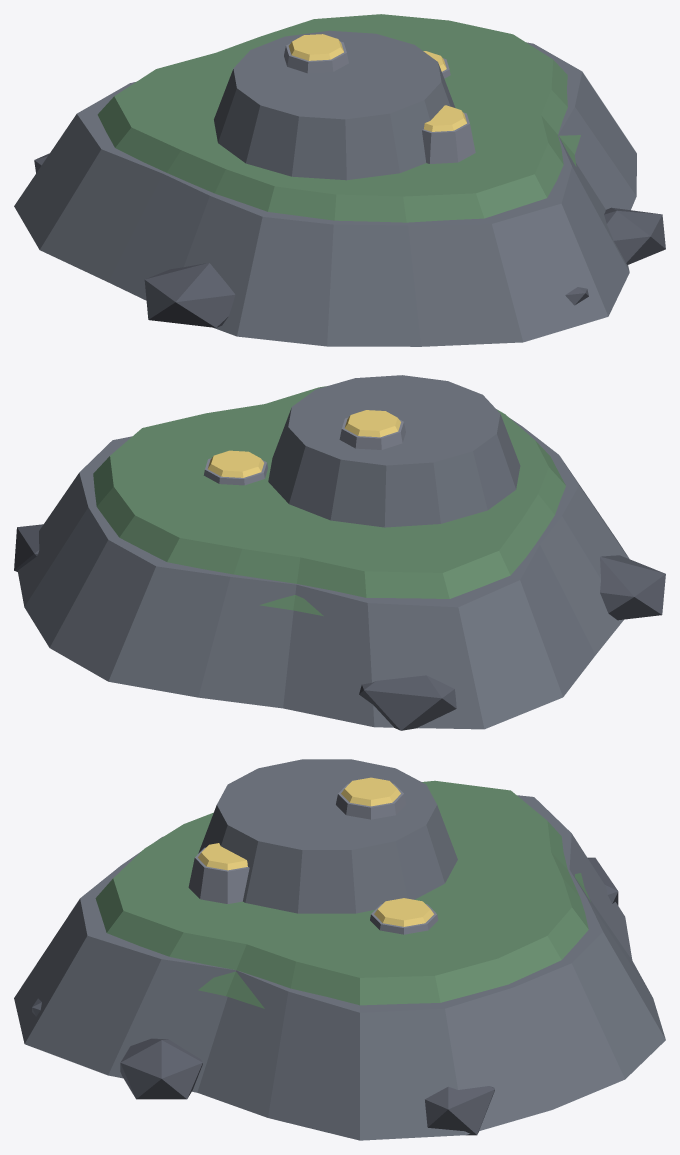
The model's file is echocraft_island.glb.
The picture shows the model from 3 angles, top to bottom: view 1: azimuth 30°, elevation 25°; view 2: azimuth 150°, elevation 25°; view 3: azimuth 270°, elevation 25°; orthographic projection. The views are drawn at different scales.
Parts seen in each view (by area): view 1: Island_Cliff_Base, Island_Grass_Plateau, Island_Lighthouse_Hill, Shore_Boulder_1, Shore_Boulder_4, Shrine_Plinth_Hope, Shrine_Plinth_Warmth_Ring, Shrine_Plinth_Warmth, Shrine_Plinth_Hope_Ring; view 2: Island_Cliff_Base, Island_Grass_Plateau, Island_Lighthouse_Hill, Shore_Boulder_3, Shore_Boulder_1, Shrine_Plinth_Life_Ring, Shrine_Plinth_Warmth_Ring, Shrine_Plinth_Warmth, Shore_Boulder_0, Shrine_Plinth_Life; view 3: Island_Cliff_Base, Island_Grass_Plateau, Island_Lighthouse_Hill, Shore_Boulder_4, Shore_Boulder_0, Shrine_Plinth_Hope, Shrine_Plinth_Warmth_Ring, Shrine_Plinth_Life_Ring, Shrine_Plinth_Warmth, Shrine_Plinth_Hope_Ring, Shrine_Plinth_Life.
Part boxes in pixels (left/top/right/bottom): Island_Cliff_Base: left=14, top=42, right=636, bottom=346; Island_Grass_Plateau: left=97, top=14, right=580, bottom=222; Island_Lighthouse_Hill: left=214, top=30, right=455, bottom=180; Shore_Boulder_1: left=144, top=263, right=235, bottom=327; Shore_Boulder_4: left=604, top=207, right=665, bottom=264; Shrine_Plinth_Hope: left=422, top=112, right=475, bottom=163; Shrine_Plinth_Warmth_Ring: left=288, top=34, right=343, bottom=60; Shrine_Plinth_Warmth: left=284, top=41, right=348, bottom=73; Shrine_Plinth_Hope_Ring: left=424, top=105, right=466, bottom=131; Island_Cliff_Base: left=17, top=418, right=629, bottom=729; Island_Grass_Plateau: left=93, top=386, right=565, bottom=616; Island_Lighthouse_Hill: left=268, top=375, right=520, bottom=527; Shore_Boulder_3: left=359, top=675, right=456, bottom=730; Shore_Boulder_1: left=600, top=555, right=665, bottom=620; Shrine_Plinth_Life_Ring: left=208, top=450, right=263, bottom=477; Shrine_Plinth_Warmth_Ring: left=344, top=410, right=400, bottom=437; Shrine_Plinth_Warmth: left=339, top=417, right=405, bottom=449; Shore_Boulder_0: left=14, top=524, right=43, bottom=571; Shrine_Plinth_Life: left=203, top=458, right=267, bottom=485; Island_Cliff_Base: left=14, top=795, right=665, bottom=1140; Island_Grass_Plateau: left=95, top=780, right=590, bottom=1008; Island_Lighthouse_Hill: left=198, top=759, right=457, bottom=913; Shore_Boulder_4: left=120, top=1038, right=202, bottom=1099; Shore_Boulder_0: left=425, top=1086, right=494, bottom=1135; Shrine_Plinth_Hope: left=188, top=847, right=249, bottom=903; Shrine_Plinth_Warmth_Ring: left=341, top=777, right=400, bottom=806; Shrine_Plinth_Life_Ring: left=374, top=898, right=433, bottom=926; Shrine_Plinth_Warmth: left=336, top=783, right=406, bottom=819; Shrine_Plinth_Hope_Ring: left=198, top=843, right=247, bottom=870; Shrine_Plinth_Life: left=370, top=904, right=438, bottom=934.
Bounding box in the file's own units: 3 × 1.06 × 2.96.
